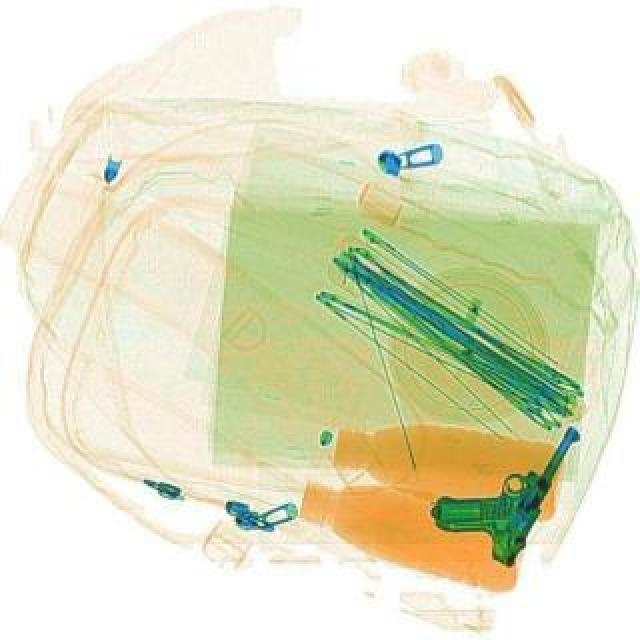gun: (418, 388, 584, 568)
